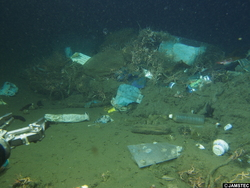fishing net: (26, 59, 80, 100)
plastic bag: (109, 83, 144, 109), (42, 111, 91, 125), (1, 80, 20, 97)
